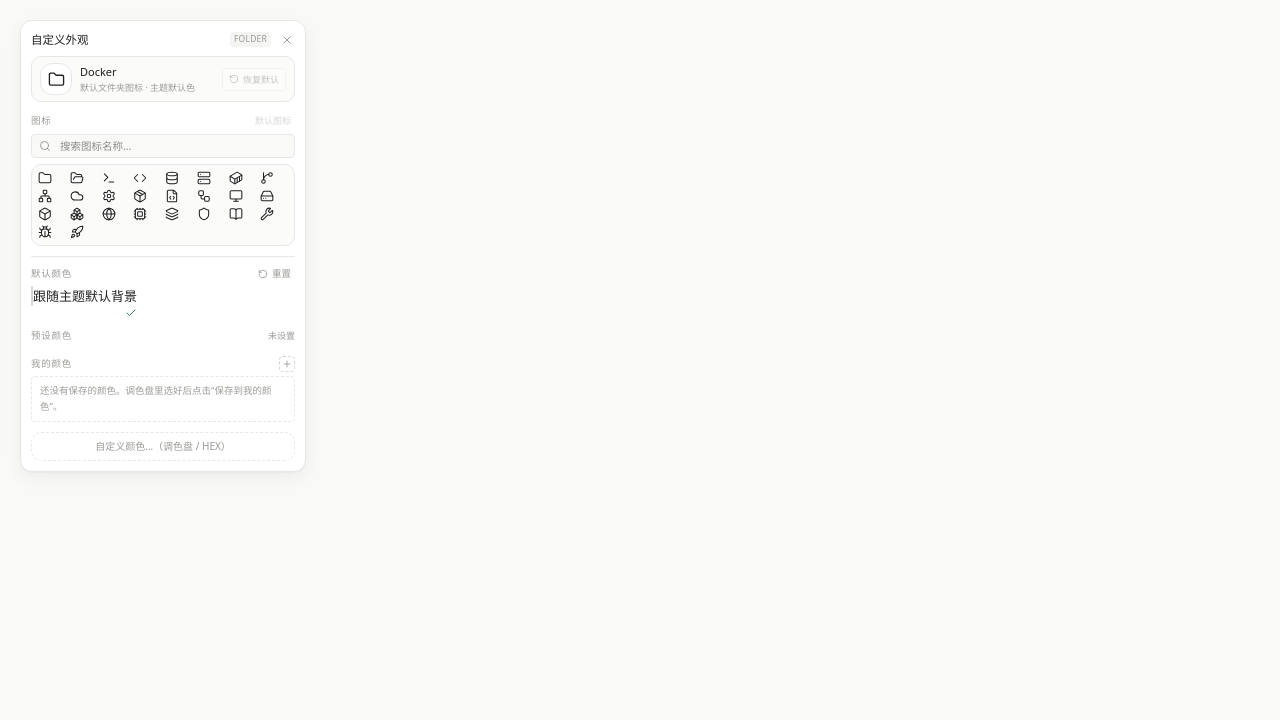
it: CategoryAppearancePopover › filters the icon grid by name and keywords
Type "sql" into the field labelled "搜索图标". click: (163,146)
box: [31,134,295,158]
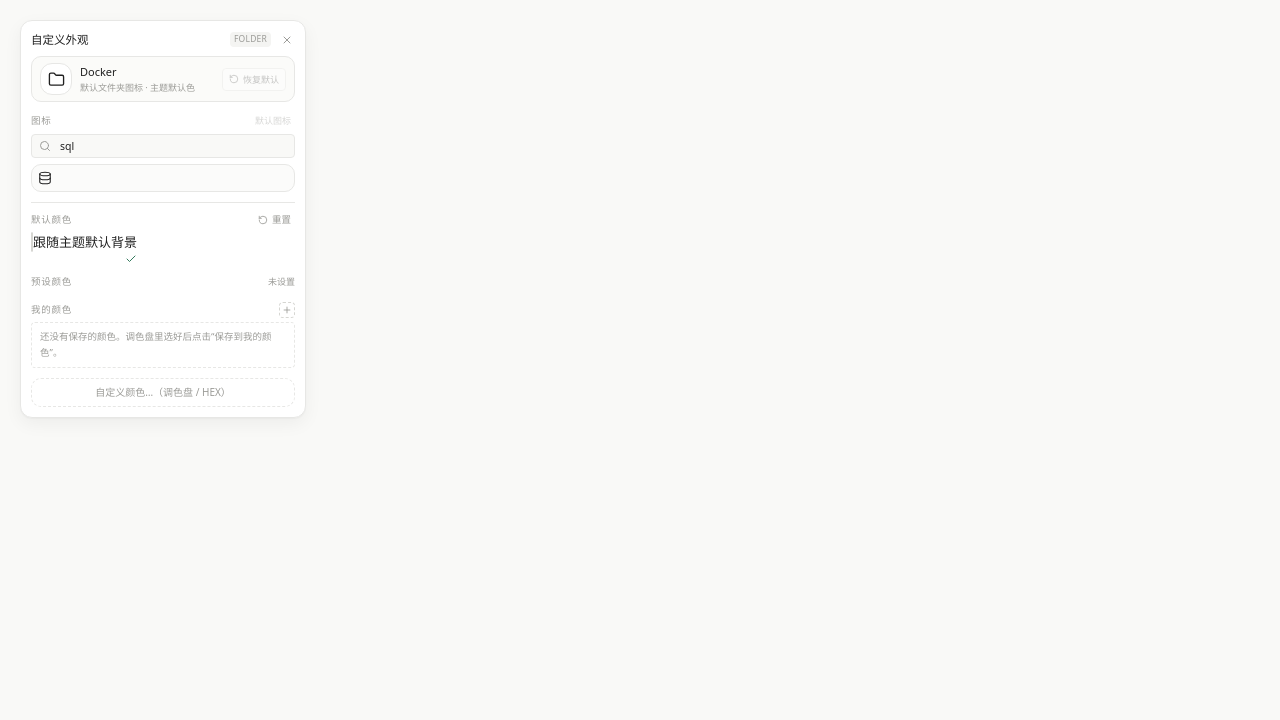
Expected: the button named "选择图标 数据库" is shown, [38,171,66,185]
Replace the text in the field named "搜索图标" with "不存在的图标". click: (163,146)
box: [31,134,295,158]
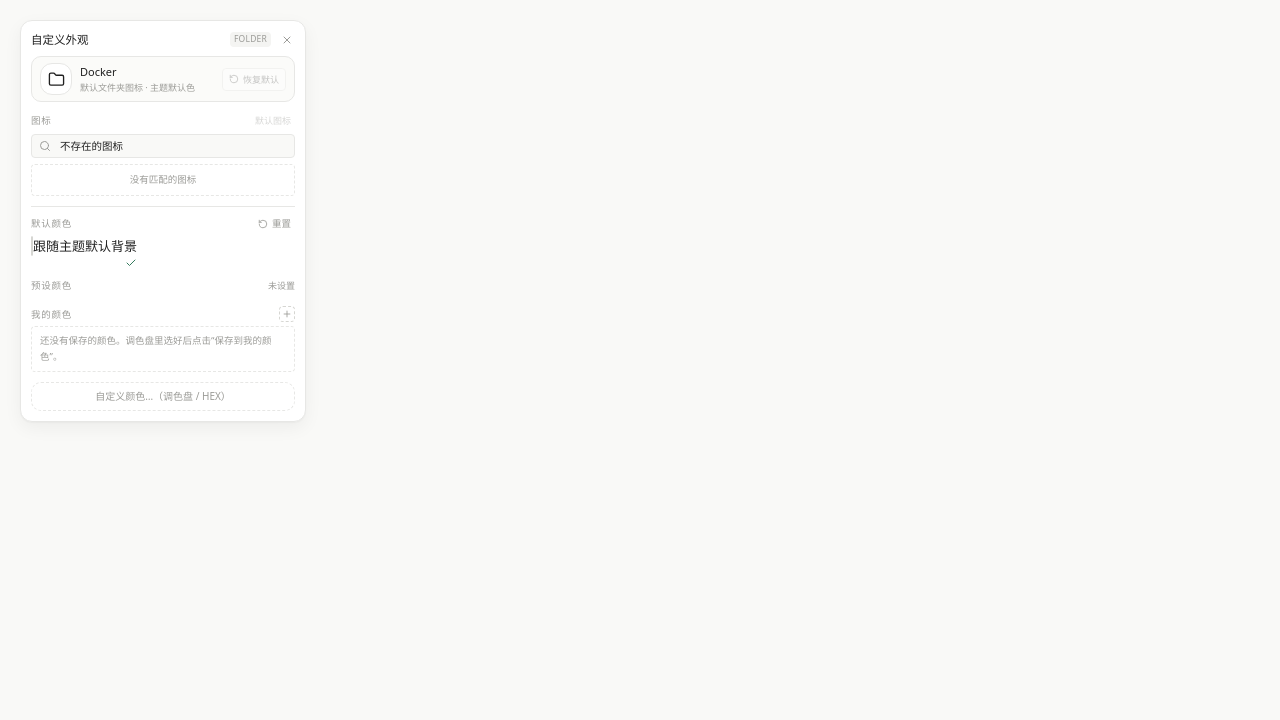
Expected: the text "没有匹配的图标" is shown, [31,164,295,196]
